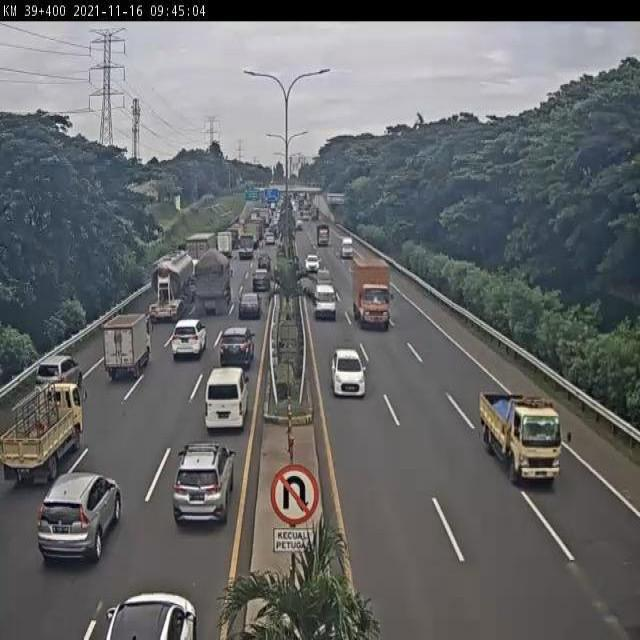car: (40, 476, 121, 559), (172, 441, 234, 524), (37, 353, 83, 399), (332, 350, 366, 398), (171, 320, 206, 357), (219, 328, 251, 365), (315, 287, 338, 320), (237, 297, 259, 327), (252, 273, 271, 295), (256, 254, 273, 278), (305, 254, 321, 274), (315, 267, 331, 287)
truck: (477, 391, 563, 483), (0, 385, 79, 480), (145, 251, 196, 327), (101, 317, 151, 384), (353, 257, 392, 332), (190, 252, 234, 313), (205, 369, 248, 427), (180, 236, 217, 292)
